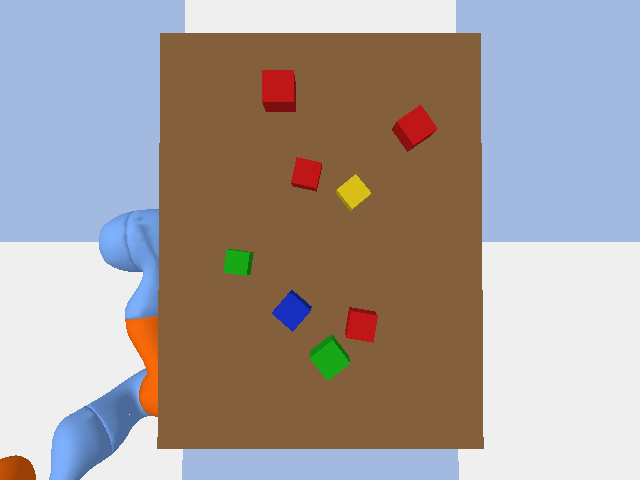blue_obj: (272, 290, 311, 331)
green_obj: (310, 334, 349, 380), (223, 249, 253, 275)
red_obj: (392, 105, 437, 151), (262, 70, 295, 111), (345, 307, 377, 342), (291, 157, 321, 191)
yellow_obj: (336, 174, 371, 210)
